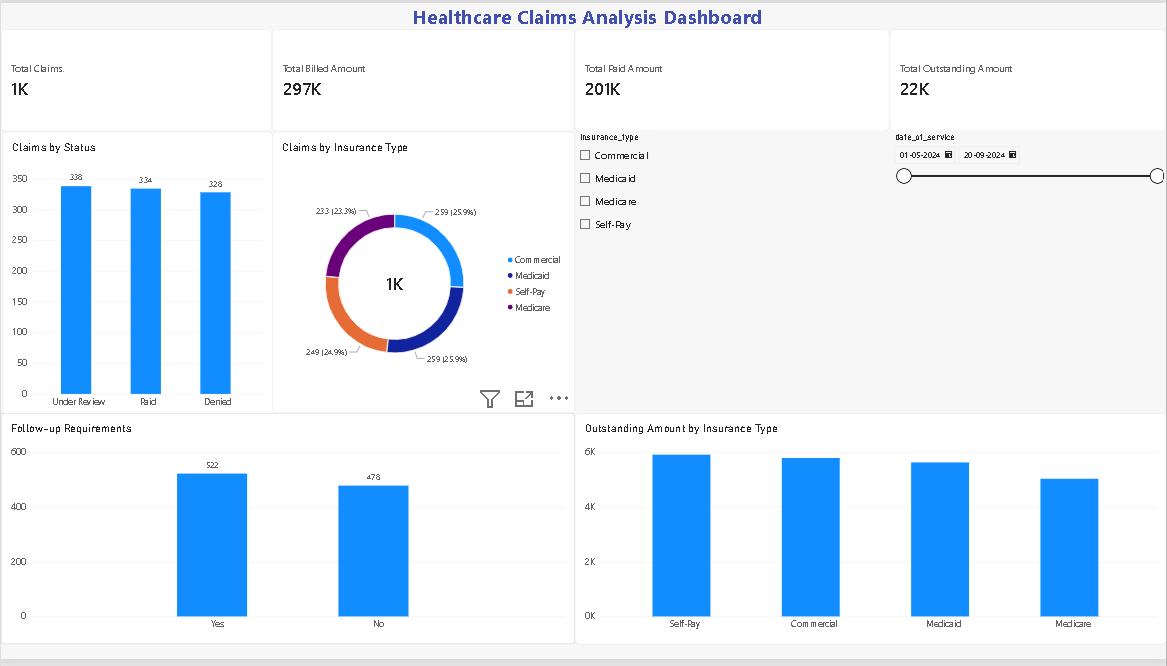

This screenshot's page, from the dashboard's own definition file:
{"tool":"powerbi","page":{"name":"Healthcare Claims Analysis","canvas":[1920,1080],"ordinal":0},"visuals":[{"type":"cardVisual","fields":{"Data":["Sum(healthcare_claims_clean.billed_amount)"]},"box":[446.7,43.2,498.1,168.8],"z":1},{"type":"cardVisual","fields":{"Data":["Sum(healthcare_claims_clean.paid_amount)"]},"box":[944.8,43.2,518.7,168.8],"z":2},{"type":"cardVisual","fields":{"Data":["Sum(healthcare_claims_clean.outstanding_amount)"]},"box":[1463.5,43.2,456.9,168.8],"z":3},{"type":"cardVisual","title":"Total Claims","fields":{"Data":["Count(healthcare_claims_clean.claim_id)"]},"box":[0,43.2,446.7,168.8],"z":4},{"type":"clusteredColumnChart","title":"Claims by Status","fields":{"Category":["healthcare_claims_clean.claim_status"],"Y":["CountNonNull(healthcare_claims_clean.claim_id)"]},"box":[2.1,212,446.7,477.5],"z":5},{"type":"donutChart","title":"Claims by Insurance Type","fields":{"Category":["healthcare_claims_clean.insurance_type"],"Y":["CountNonNull(healthcare_claims_clean.claim_id)"]},"box":[446.7,212,498.1,463.1],"z":6},{"type":"slicer","fields":{"Values":["healthcare_claims_clean.insurance_type"]},"box":[944.8,212,518.7,463.1],"z":7},{"type":"slicer","fields":{"Values":["healthcare_claims_clean.date_of_service"]},"box":[1463.5,212,456.9,463.1],"z":8},{"type":"clusteredColumnChart","title":"Follow-up Requirements","fields":{"Category":["healthcare_claims_clean.follow_up_required"],"Y":["CountNonNull(healthcare_claims_clean.claim_id)"]},"box":[0,675.1,944.8,380.8],"z":9},{"type":"textbox","box":[1463,675,457,381],"z":11},{"type":"textbox","box":[55.6,0,1819.6,43.2],"z":12},{"type":"clusteredColumnChart","title":"Outstanding Amount by Insurance Type","fields":{"Category":["healthcare_claims_clean.insurance_type"],"Y":["Sum(healthcare_claims_clean.outstanding_amount)"]},"box":[944.8,675.1,975.6,380.8],"z":13}]}

Visuals, with their boxes in screenshot pixels (x1, y1, x2, y2), scaled from the page's 1920x1080 canvas onto the 1167x666 screenshot:
cardVisual - Sum(healthcare_claims_clean.billed_amount): {"left": 272, "top": 27, "right": 574, "bottom": 131}
cardVisual - Sum(healthcare_claims_clean.paid_amount): {"left": 574, "top": 27, "right": 890, "bottom": 131}
cardVisual - Sum(healthcare_claims_clean.outstanding_amount): {"left": 890, "top": 27, "right": 1166, "bottom": 131}
"Total Claims" cardVisual: {"left": 0, "top": 27, "right": 272, "bottom": 131}
"Claims by Status" clusteredColumnChart: {"left": 1, "top": 131, "right": 273, "bottom": 425}
"Claims by Insurance Type" donutChart: {"left": 272, "top": 131, "right": 574, "bottom": 416}
slicer - healthcare_claims_clean.insurance_type: {"left": 574, "top": 131, "right": 890, "bottom": 416}
slicer - healthcare_claims_clean.date_of_service: {"left": 890, "top": 131, "right": 1166, "bottom": 416}
"Follow-up Requirements" clusteredColumnChart: {"left": 0, "top": 416, "right": 574, "bottom": 651}
textbox: {"left": 889, "top": 416, "right": 1166, "bottom": 651}
textbox: {"left": 34, "top": 0, "right": 1140, "bottom": 27}
"Outstanding Amount by Insurance Type" clusteredColumnChart: {"left": 574, "top": 416, "right": 1166, "bottom": 651}
